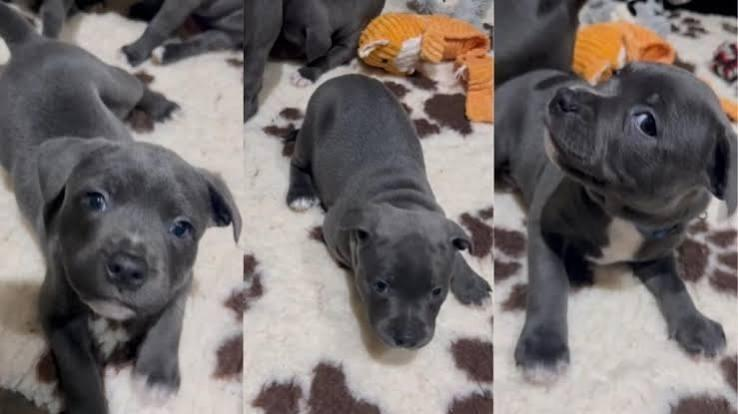puppy-dog: (0, 2, 243, 414), (498, 61, 738, 377), (285, 73, 492, 352), (244, 0, 385, 125), (494, 0, 583, 181), (118, 0, 244, 77)
